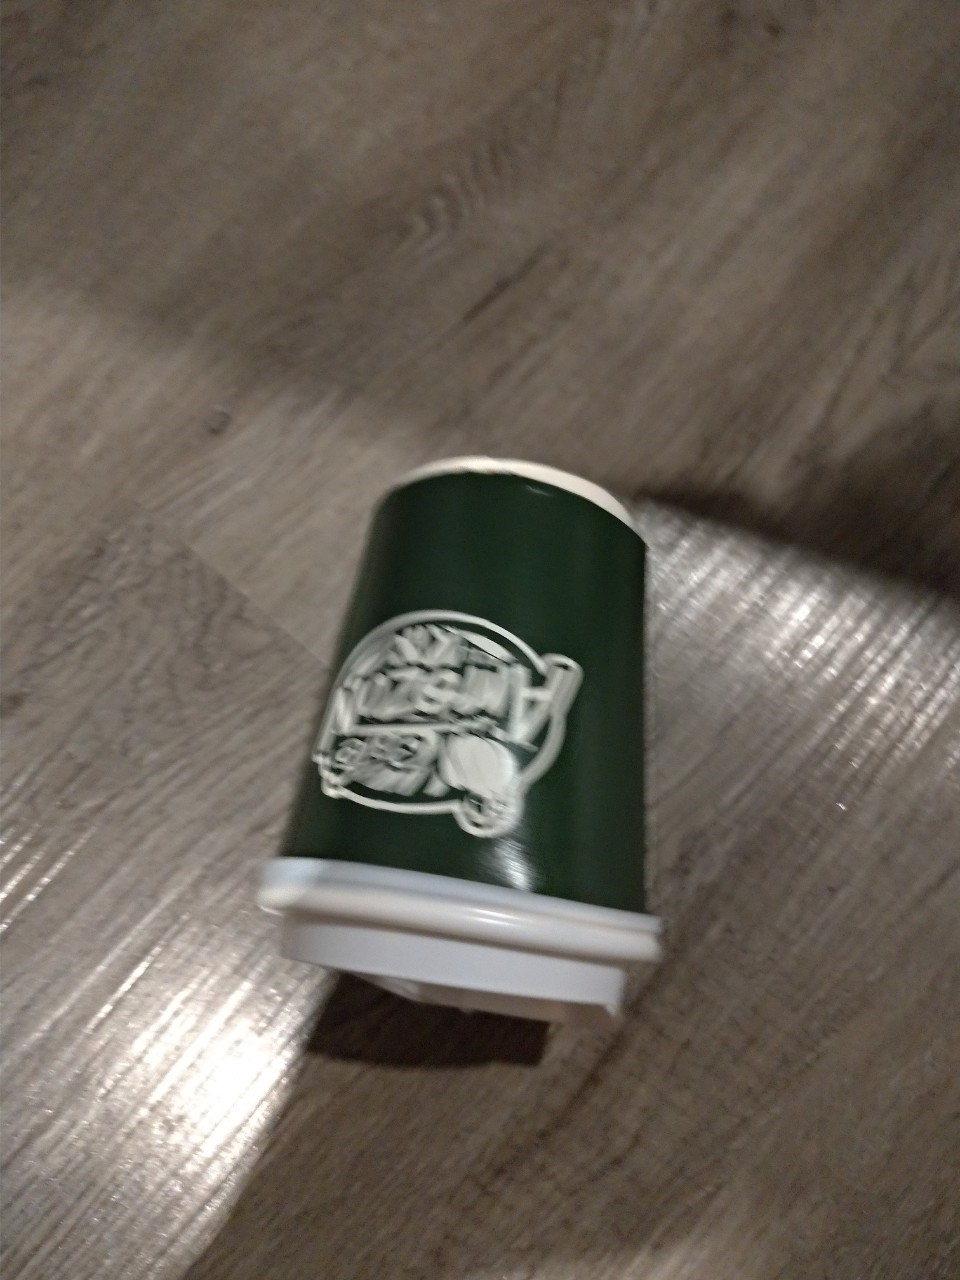PaperCup: (259, 463, 671, 1031)
